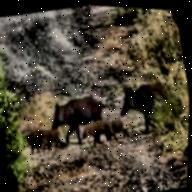boar: (109, 68, 189, 142), (39, 85, 105, 141), (74, 111, 125, 156), (20, 117, 67, 161), (103, 113, 128, 141)
